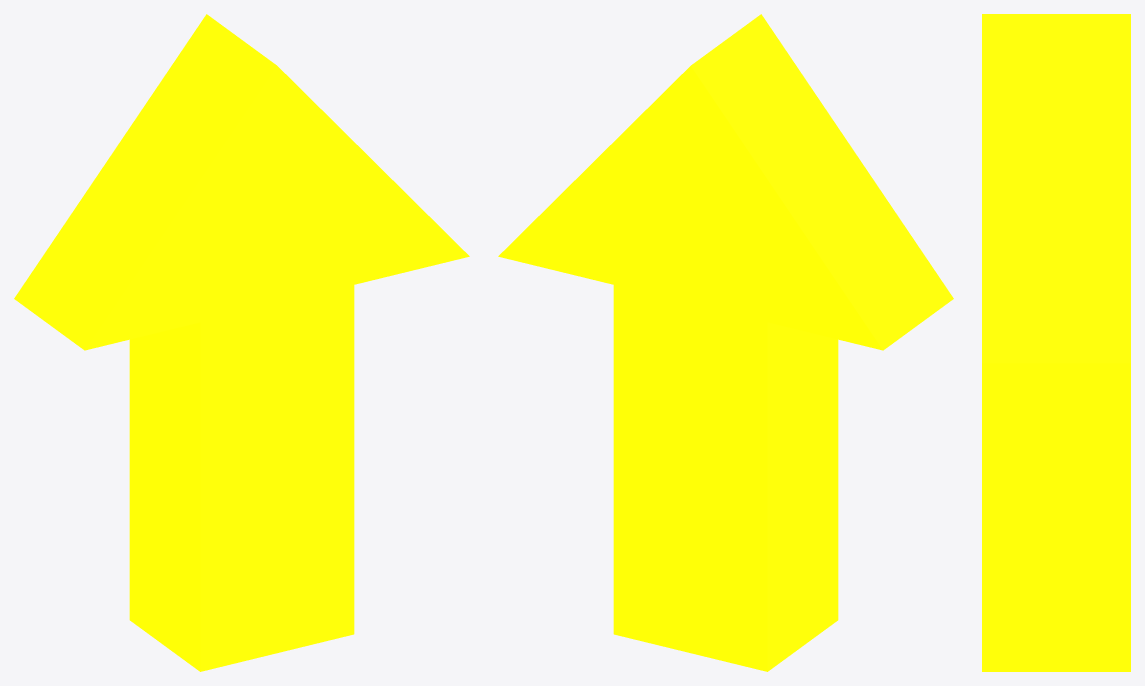
The model's file is ArrowV2.fbx.
3 renders of one model, left to right at view 1: azimuth 30°, elevation 25°; view 2: azimuth 150°, elevation 25°; view 3: azimuth 270°, elevation 25°, orthographic. The views are drawn at different scales.
Visible parts, largest first — view 1: Cube.002; view 2: Cube.002; view 3: Cube.002.
Part boxes in pixels (x1,y1,x2,y2): Cube.002: (14,14,469,671); Cube.002: (498,14,953,671); Cube.002: (982,14,1130,671).
Size of the model in its own units: 185 by 270 by 58.83.
